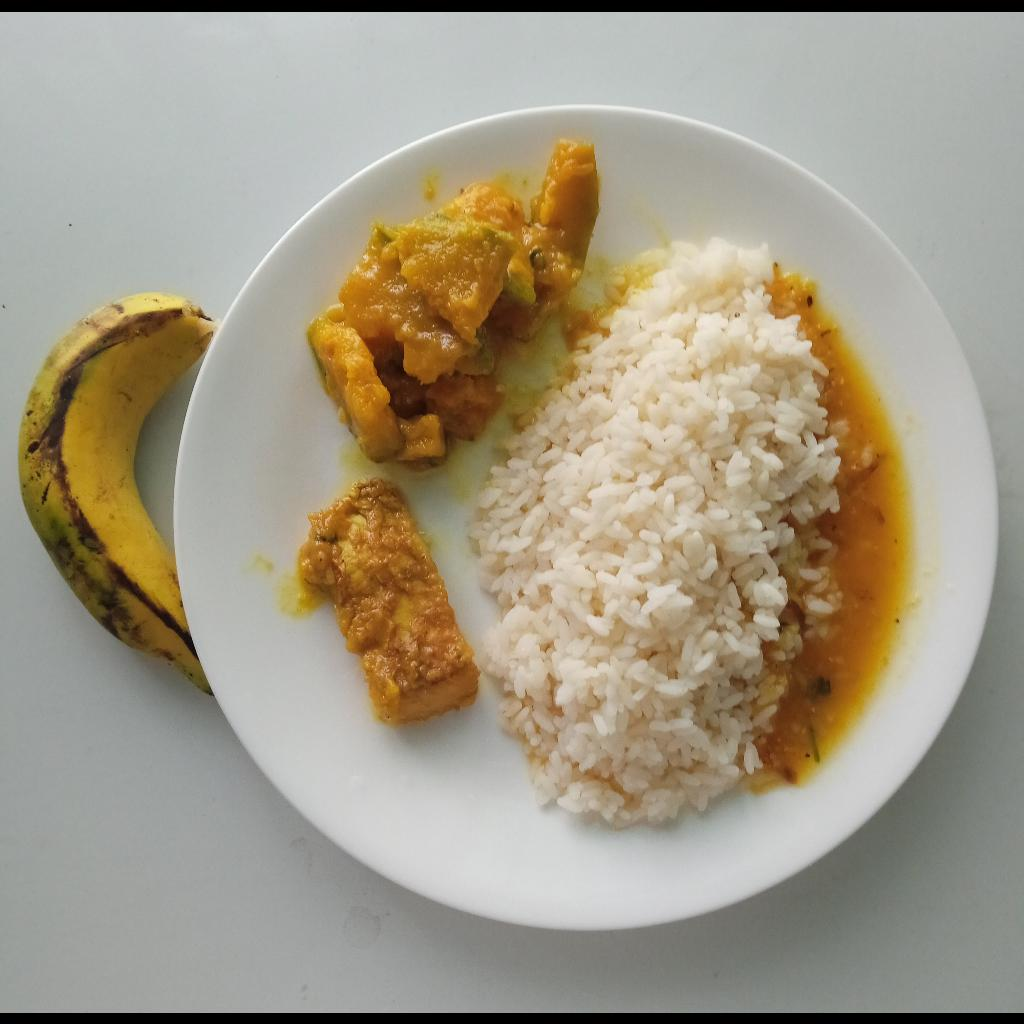banana: (15, 295, 210, 689)
daal: (767, 309, 902, 781)
fish: (305, 480, 482, 715)
kumra-vaji: (304, 142, 595, 464)
rice: (471, 242, 849, 818)
